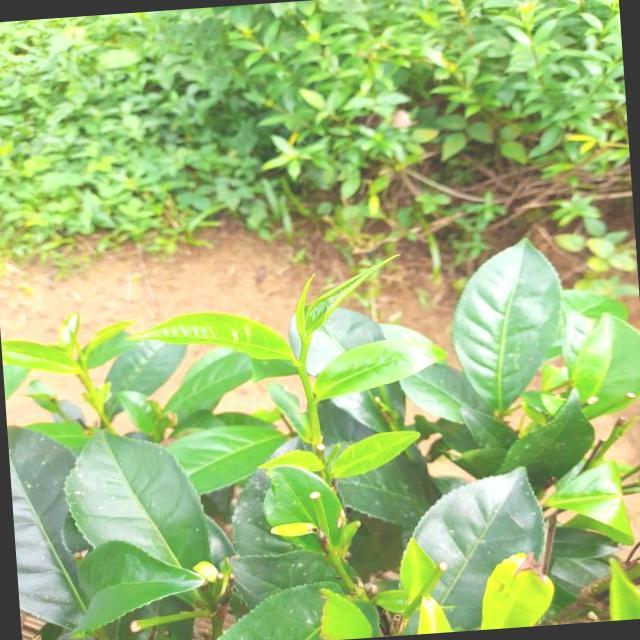Stem: (296, 365, 311, 390), (81, 374, 95, 394)
